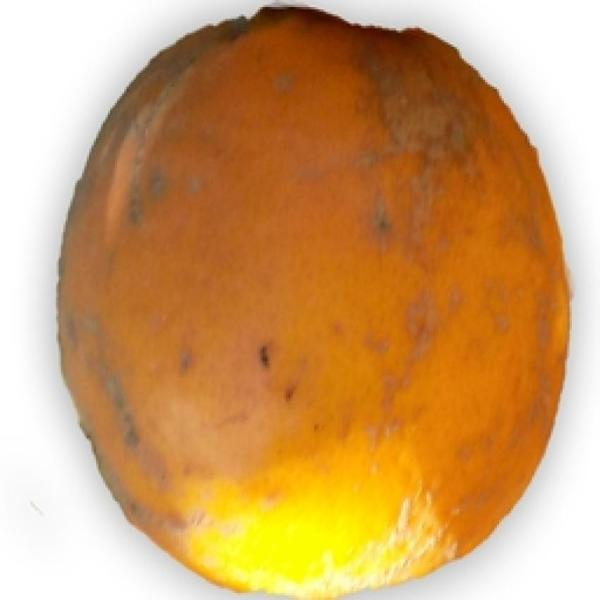Canker: (44, 1, 586, 600)
